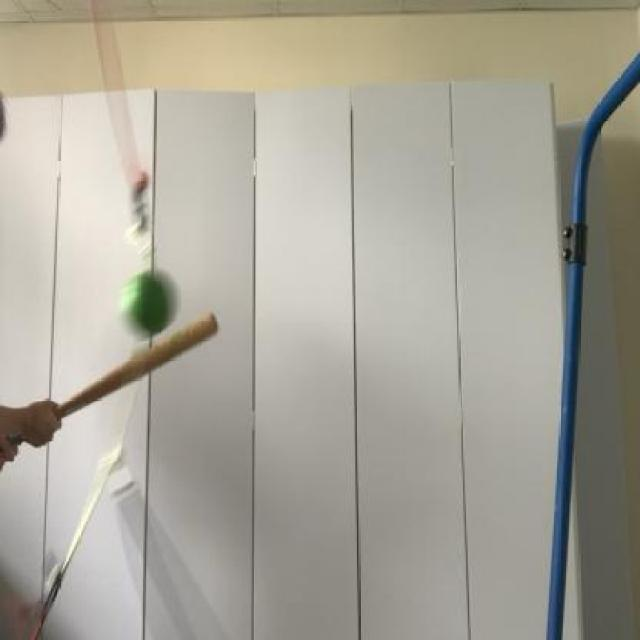baseball: (110, 258, 184, 344)
